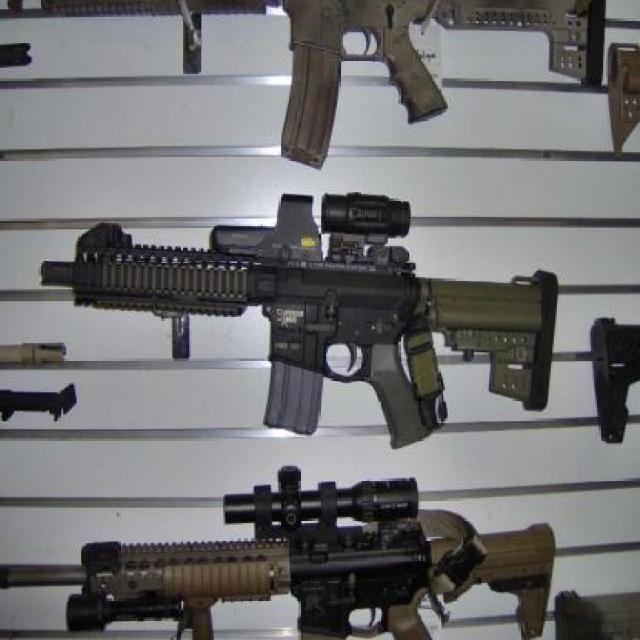Rifle: (13, 184, 572, 452), (1, 0, 608, 169), (0, 468, 567, 640)
